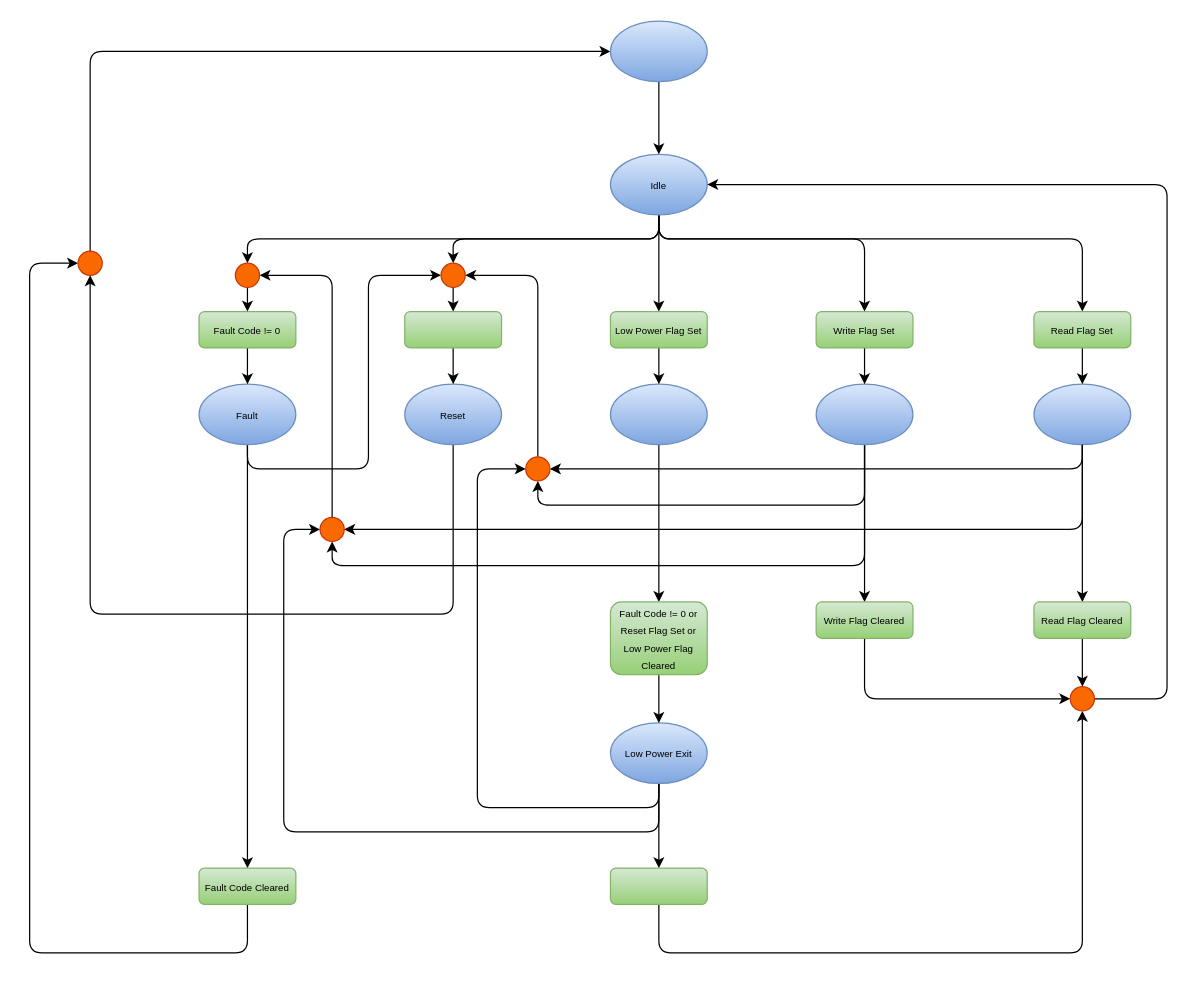
The diagram is 1198 pixels wide and 984 high, and some of its shapes have lost their labels. The box of each missing label's shape, as (x1, y1, x2, y2) in pixels:
Initialization: (609, 20, 707, 82)
Low Power: (609, 383, 707, 445)
No other flags set: (609, 867, 707, 904)
Read: (1033, 383, 1131, 445)
Reset Flag Set: (404, 310, 502, 348)
Write: (815, 383, 913, 445)
